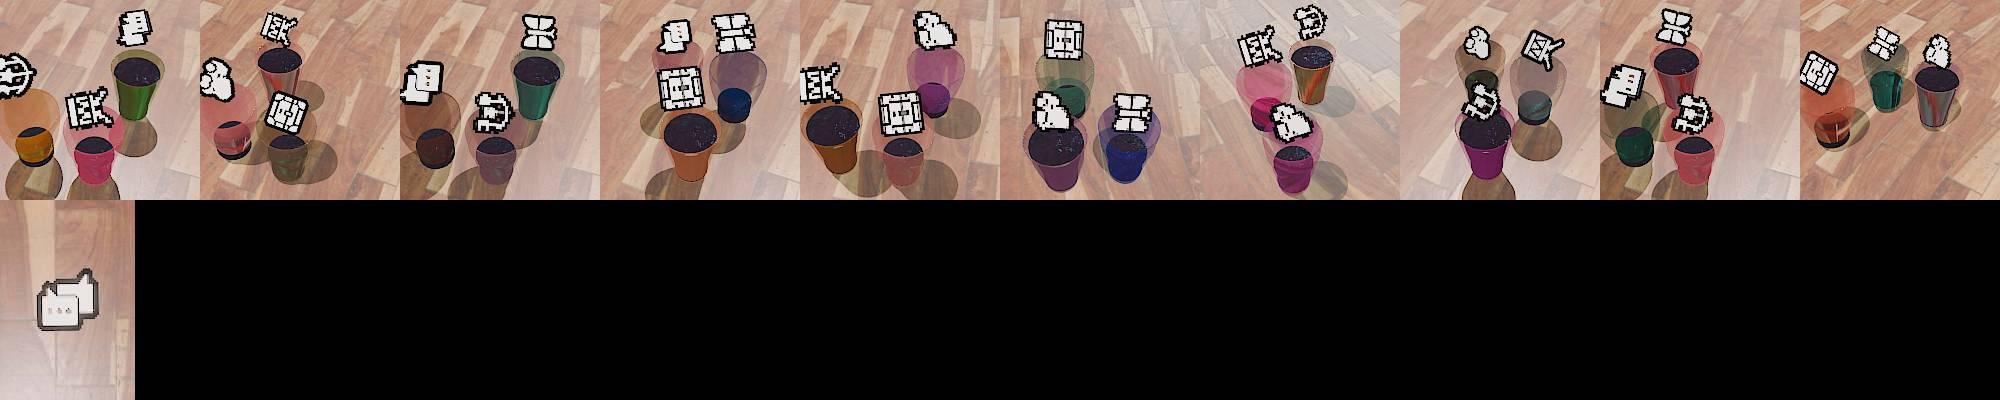icon: (656, 65, 708, 112), (876, 89, 925, 136), (64, 85, 114, 130), (401, 59, 445, 104), (1601, 62, 1645, 108), (264, 89, 310, 134), (1236, 25, 1283, 69), (1110, 92, 1154, 136), (1519, 28, 1565, 71), (1268, 99, 1314, 143), (798, 60, 842, 104), (1042, 17, 1084, 61), (37, 288, 82, 330), (912, 10, 955, 52), (1798, 50, 1839, 94), (472, 89, 513, 134), (1032, 89, 1074, 131), (0, 52, 37, 97), (1460, 79, 1500, 120), (199, 56, 235, 101), (519, 13, 559, 52), (1656, 6, 1694, 47), (710, 13, 756, 46), (656, 18, 695, 56), (259, 10, 298, 47), (117, 9, 153, 48), (1867, 24, 1903, 62), (1675, 96, 1710, 132), (1922, 33, 1953, 70), (1464, 24, 1494, 61), (1296, 5, 1325, 36)
